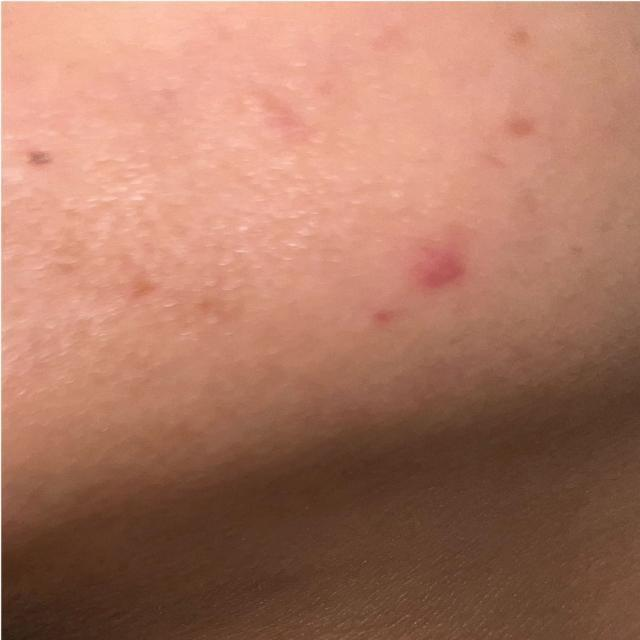papule: (329, 217, 516, 340)
